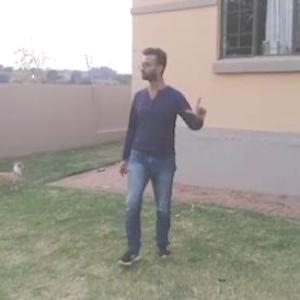land_hand: (184, 92, 212, 126)
